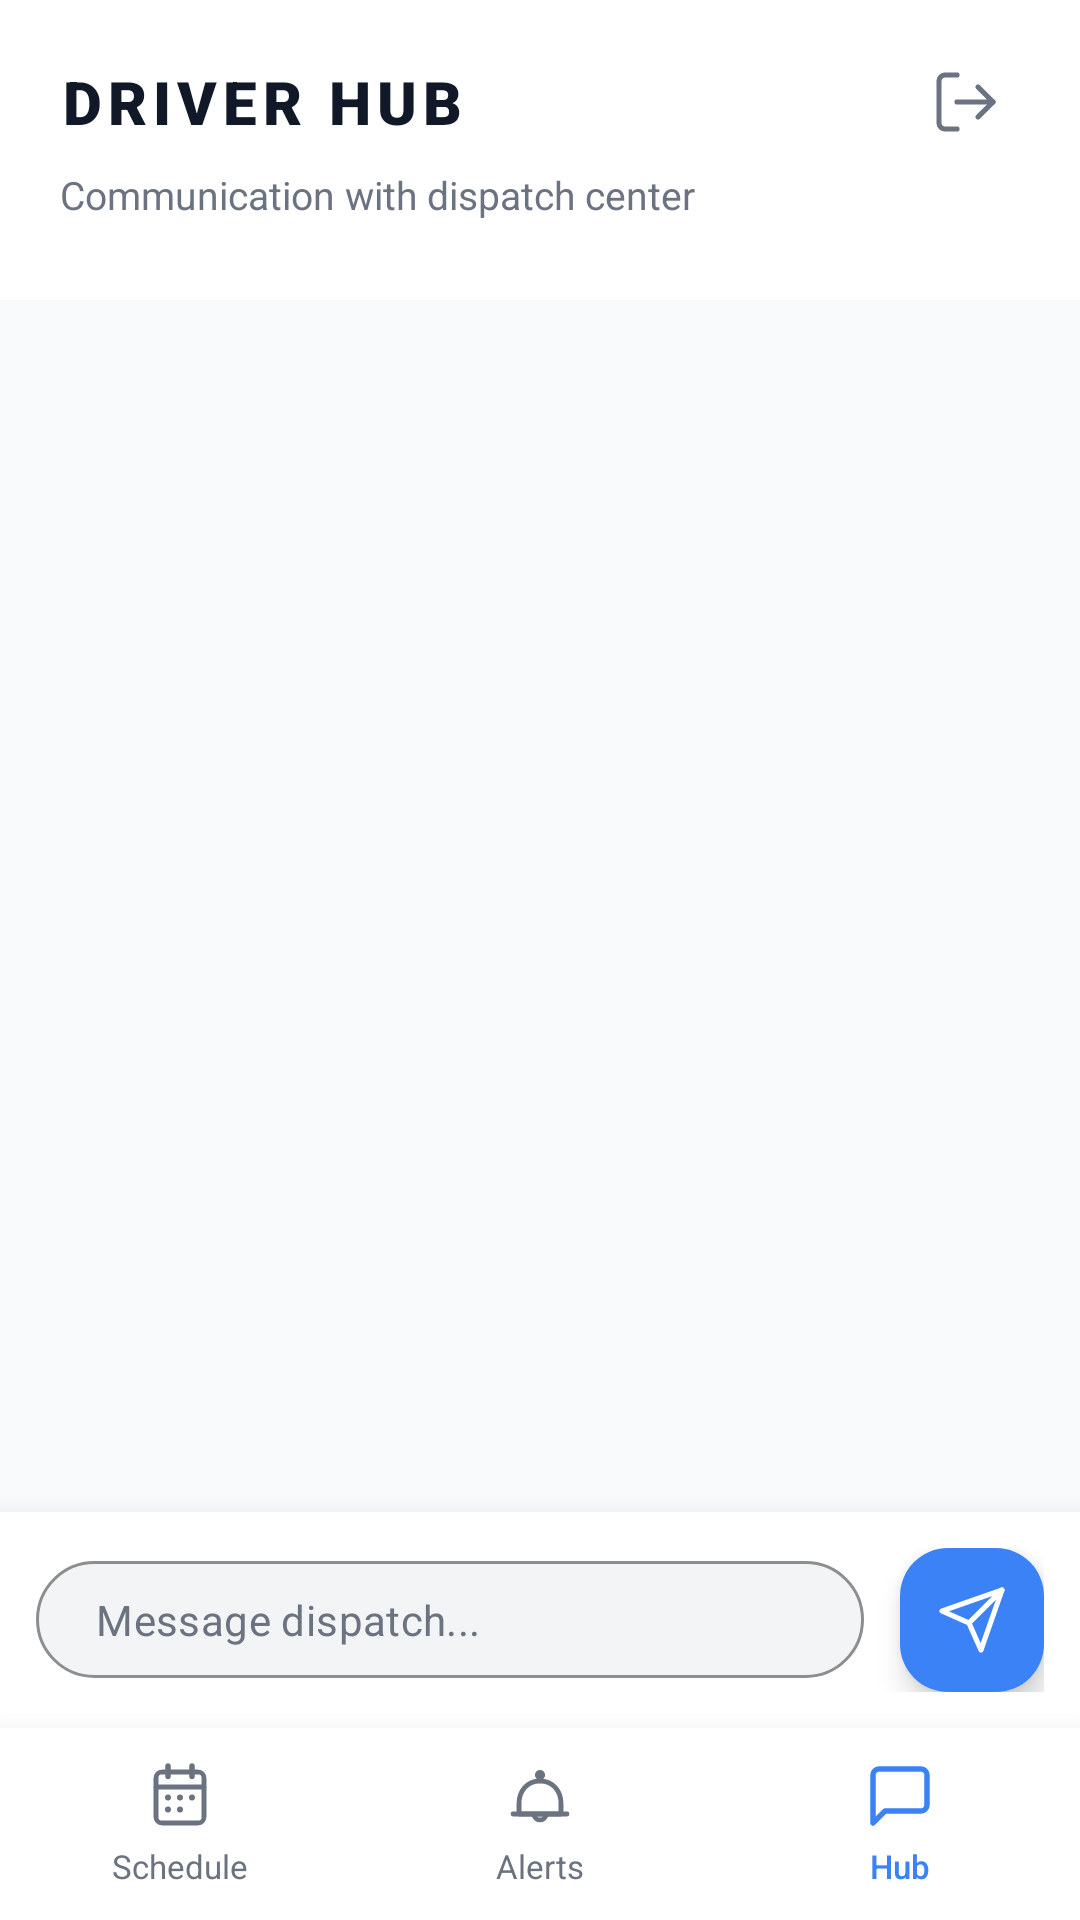

Named icons in this screenshot (1080px×1920px) and their bounding boxes, bbox=[x1, y1, x2, y2]:
bell: bbox=[510, 1770, 570, 1823]
calendar: bbox=[153, 1763, 207, 1826]
send: bbox=[900, 1548, 1044, 1692]
